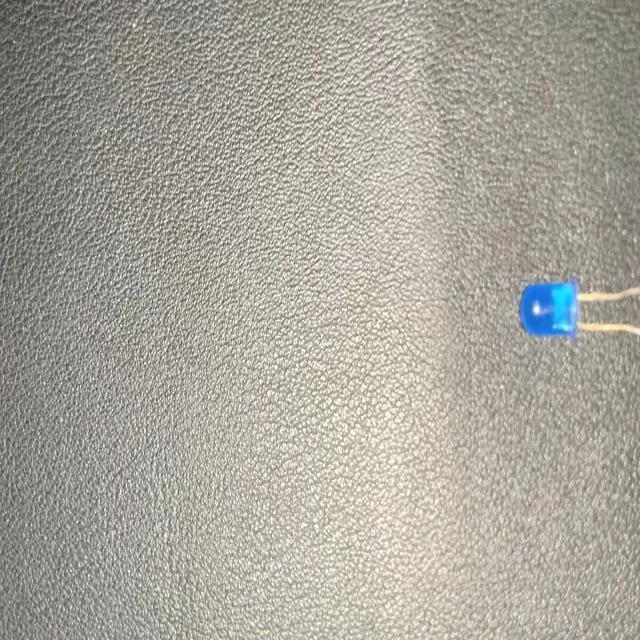LED: (517, 273, 640, 342)
